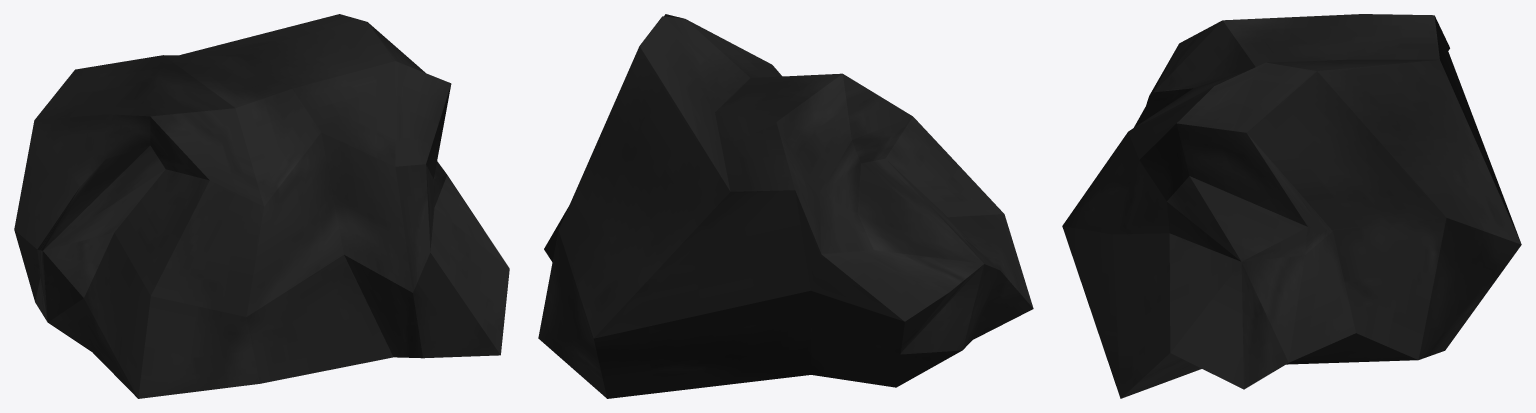
Rendered from rock_003.obj.
3 renders of one model, left to right at view 1: azimuth 30°, elevation 25°; view 2: azimuth 150°, elevation 25°; view 3: azimuth 270°, elevation 25°, orthographic. The views are drawn at different scales.
Parts seen in each view (by area): view 1: Mesh; view 2: Mesh; view 3: Mesh.
Part boxes in pixels (x1,y1,x2,y2): Mesh: [14, 14, 509, 398]; Mesh: [538, 14, 1033, 398]; Mesh: [1062, 14, 1521, 398].
Size of the model in its own units: 1.47 by 1 by 1.34.
